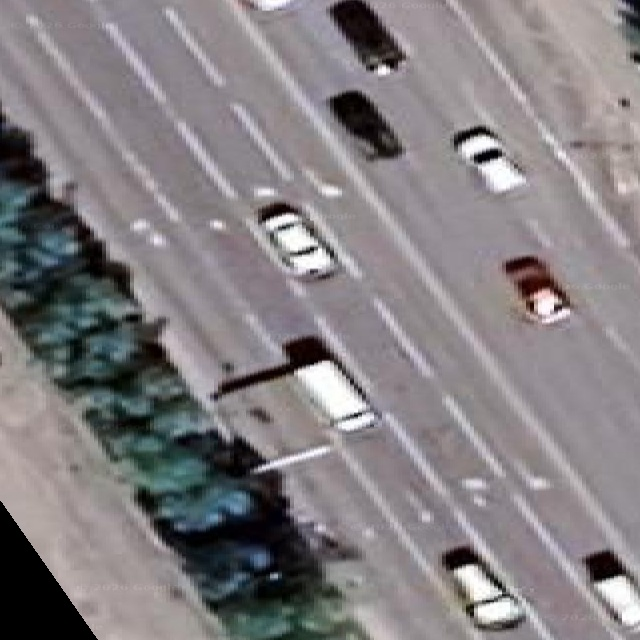car: (212, 335, 380, 432), (283, 336, 376, 431), (442, 547, 523, 627), (292, 360, 375, 431), (328, 0, 404, 75), (258, 203, 335, 276), (327, 89, 403, 159), (453, 125, 524, 192), (504, 256, 568, 324), (585, 552, 639, 630), (296, 513, 357, 560), (611, 0, 639, 68), (615, 0, 639, 27), (244, 0, 291, 11), (252, 457, 278, 471), (628, 49, 639, 68), (279, 457, 280, 459)
